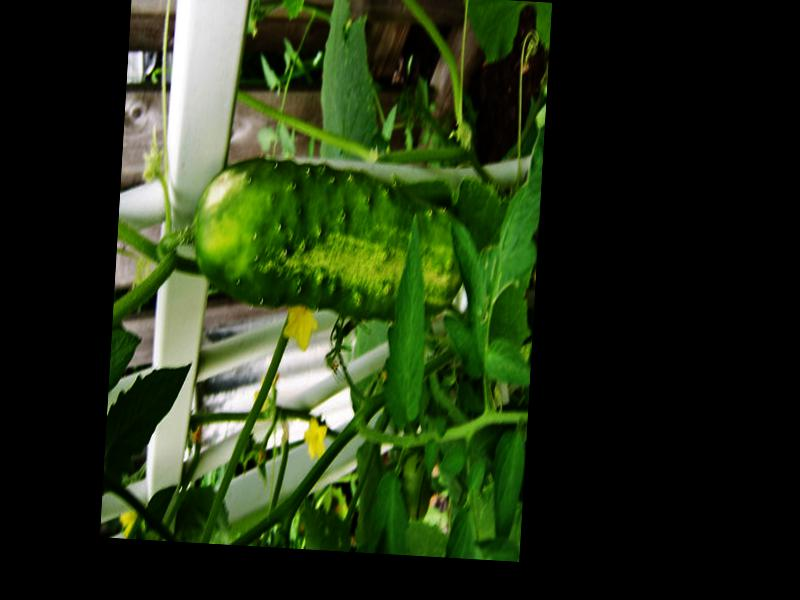Cucumber: (188, 156, 465, 318)
